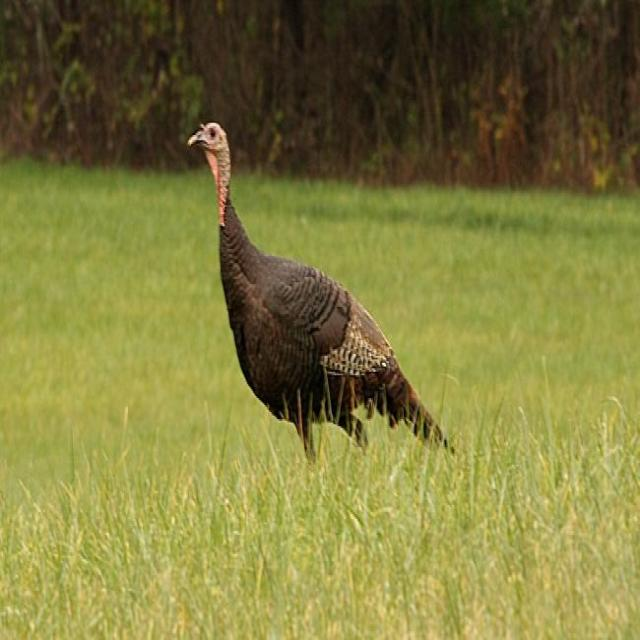Turkey: (182, 92, 467, 483)
